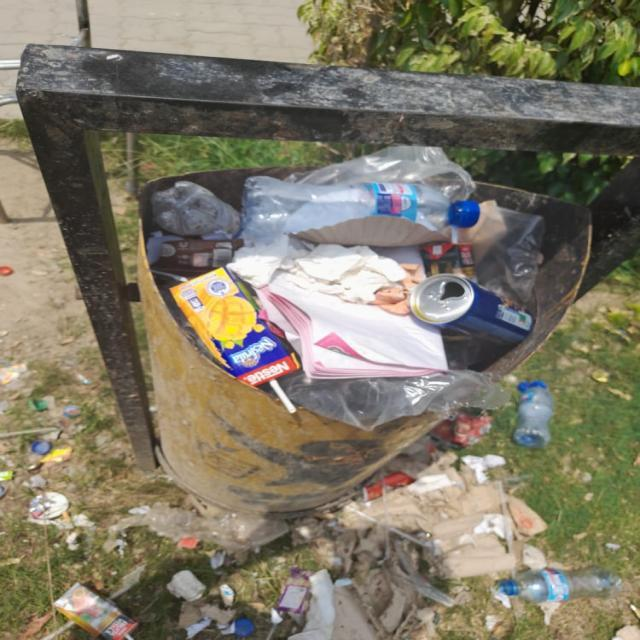garbage: (1, 370, 640, 640), (122, 144, 606, 392)
